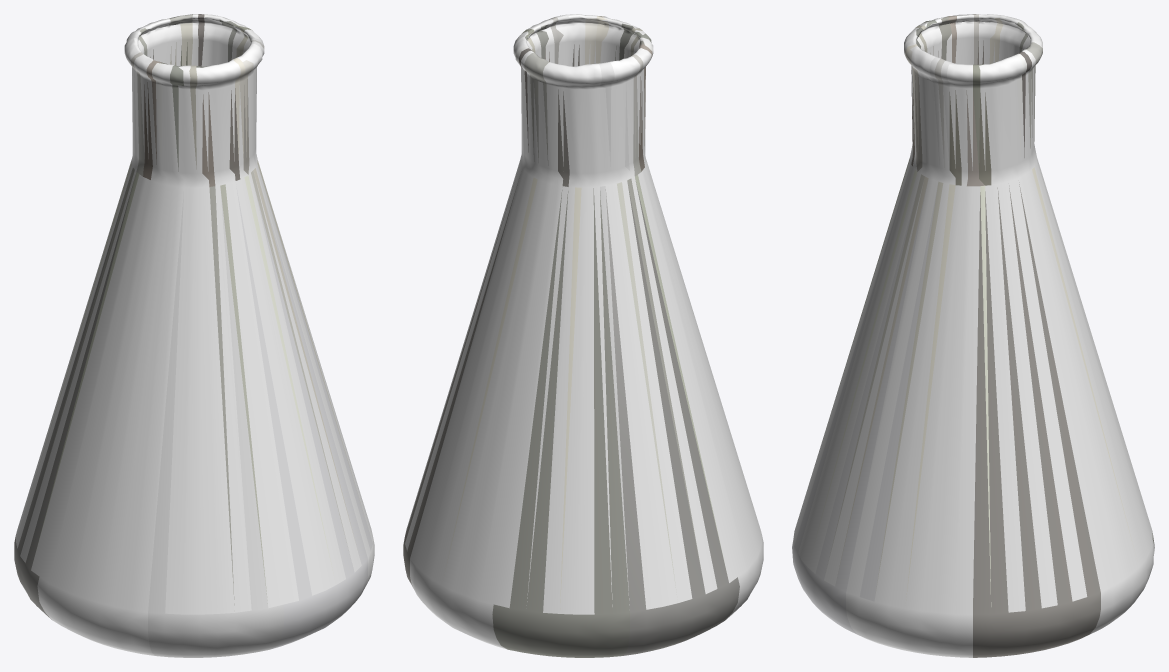
The model's file is glass_flask_1779214208.glb.
The picture shows the model from 3 angles, left to right: view 1: azimuth 30°, elevation 25°; view 2: azimuth 150°, elevation 25°; view 3: azimuth 270°, elevation 25°; orthographic projection.
Visible parts, largest first — view 1: tripo_node_3db9f29a-ec1e-4fe2-bc0d-b159b24ab44b; view 2: tripo_node_3db9f29a-ec1e-4fe2-bc0d-b159b24ab44b; view 3: tripo_node_3db9f29a-ec1e-4fe2-bc0d-b159b24ab44b.
Part boxes in pixels (bbox=[...]): tripo_node_3db9f29a-ec1e-4fe2-bc0d-b159b24ab44b: bbox=[14, 14, 374, 657]; tripo_node_3db9f29a-ec1e-4fe2-bc0d-b159b24ab44b: bbox=[403, 14, 763, 657]; tripo_node_3db9f29a-ec1e-4fe2-bc0d-b159b24ab44b: bbox=[792, 14, 1154, 657].
Size of the model in its own units: 0.5762 by 0.998 by 0.5762.
1 material, 1 textured.
